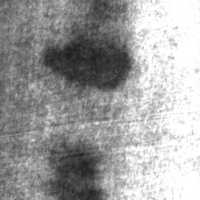patches: (38, 22, 136, 95), (45, 136, 105, 199)
